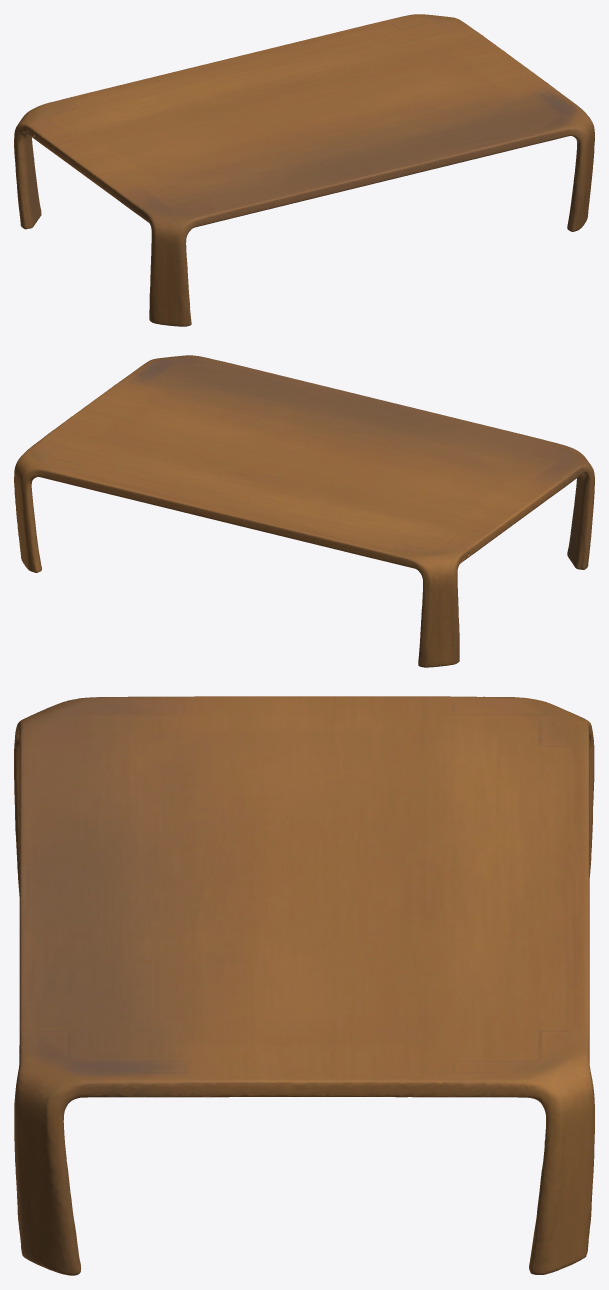
File: stol-v1 (1).glb
3 views of the same model, one above another, from view 1: azimuth 30°, elevation 25°; view 2: azimuth 150°, elevation 25°; view 3: azimuth 270°, elevation 25° (orthographic). The views are drawn at different scales.
Parts seen in each view (by area): view 1: world; view 2: world; view 3: world.
Part boxes in pixels (x1,y1,x2,y2): world: [14, 14, 594, 326]; world: [14, 355, 594, 667]; world: [14, 696, 594, 1275].
Size of the model in its own units: 1 by 0.2323 by 0.6283.
Materials: 1 (1 with a texture image).
